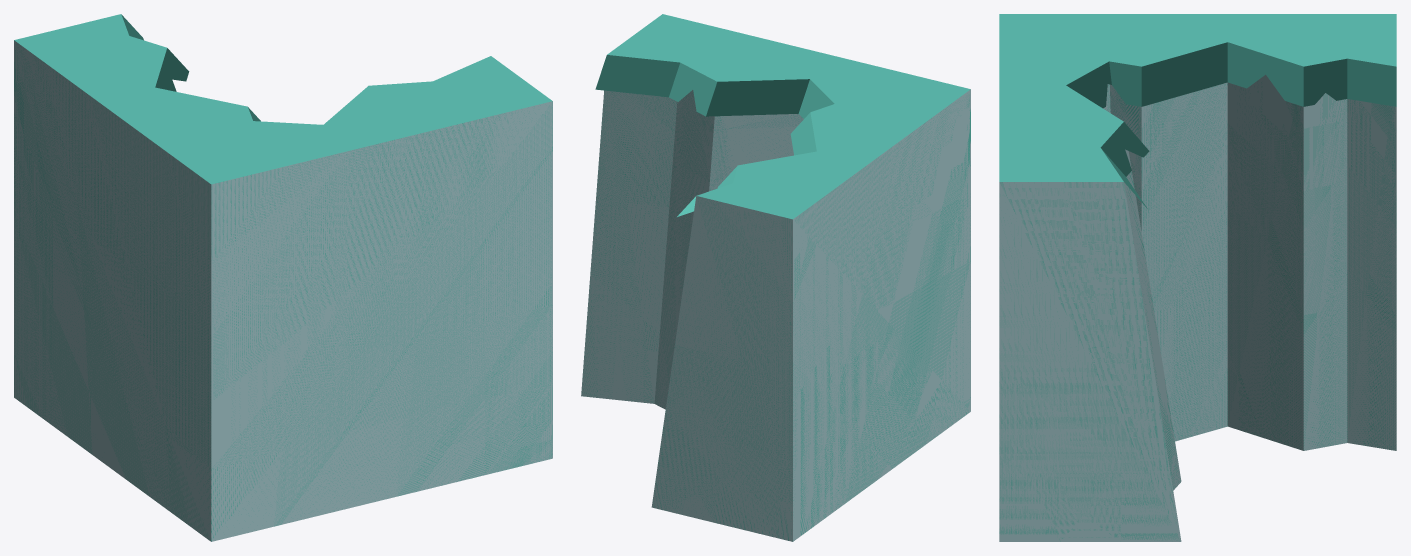
The model's file is cliffGrey_cornerInnerTop.obj.
3 views of the same model, side by side, from view 1: azimuth 30°, elevation 25°; view 2: azimuth 150°, elevation 25°; view 3: azimuth 270°, elevation 25° (orthographic). The views are drawn at different scales.
Visible parts, largest first — view 1: cliffGrey_cornerInnerTop; view 2: cliffGrey_cornerInnerTop; view 3: cliffGrey_cornerInnerTop.
Boxes of the visible parts, x1,y1,x2,y2 form: cliffGrey_cornerInnerTop: (14,14,552,541); cliffGrey_cornerInnerTop: (581,14,970,541); cliffGrey_cornerInnerTop: (999,14,1396,541).
Size of the model in its own units: 10 by 10 by 10.
